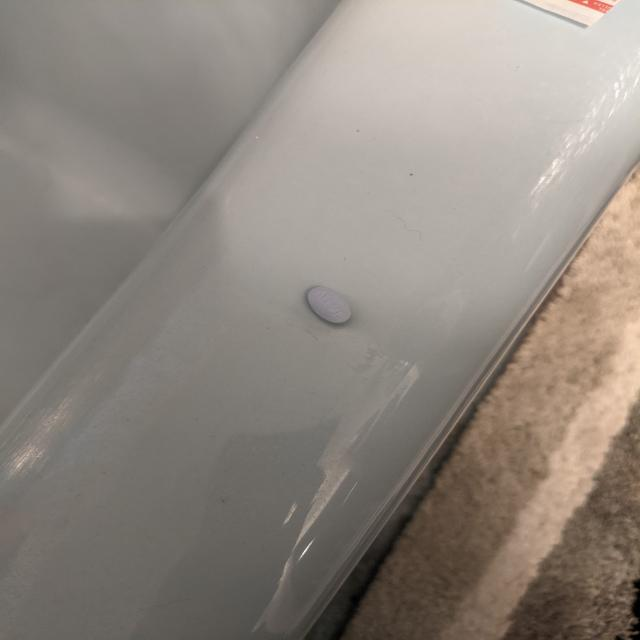non-organic waste: (307, 286, 353, 326)
